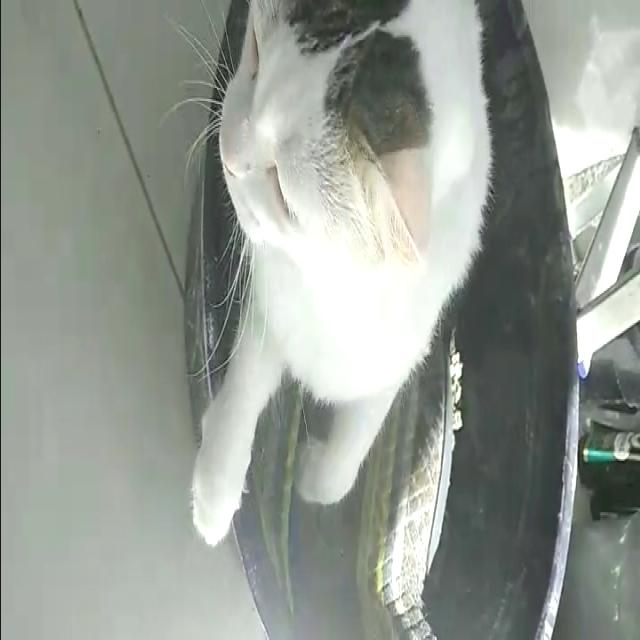Simba: (177, 0, 502, 605)
